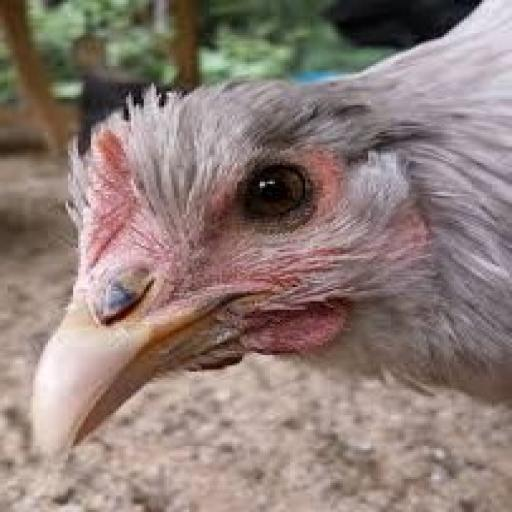disease: (146, 106, 390, 247)
